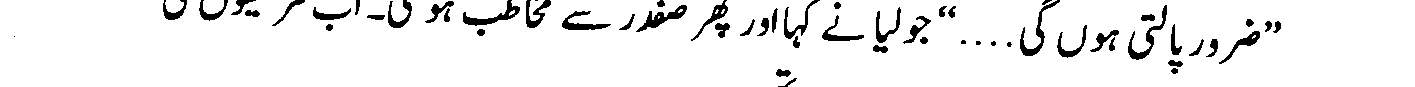bay_shosha: (305, 3, 352, 32), (459, 7, 502, 36)
